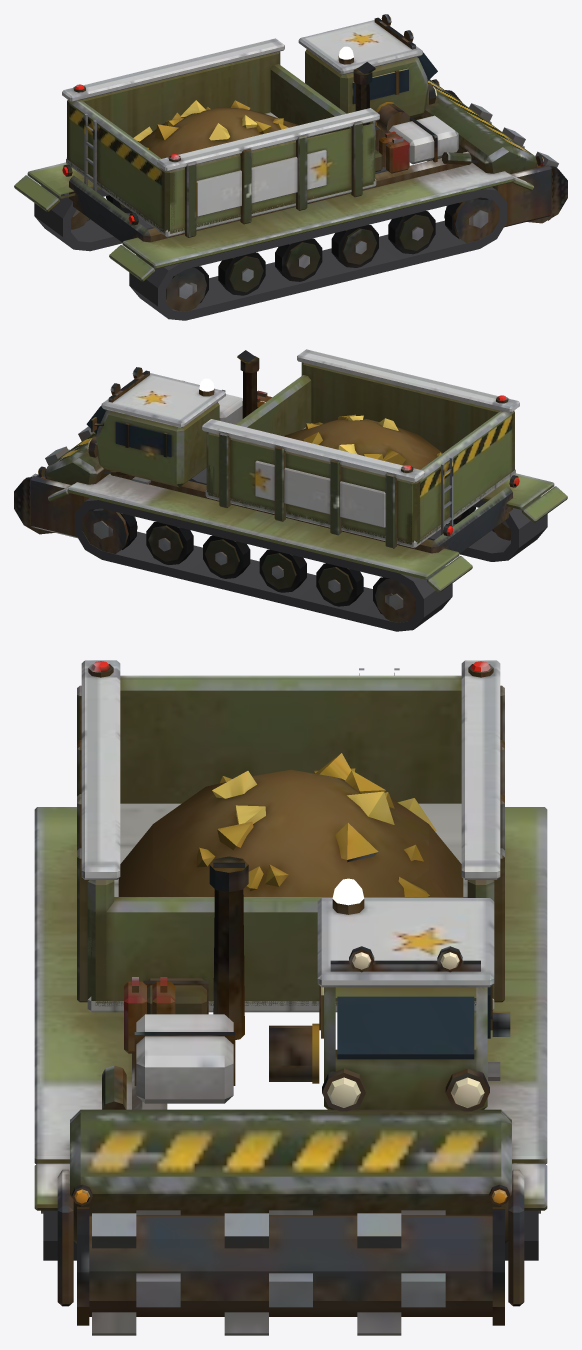
The model's file is harv.soviet.glb.
The picture shows the model from 3 angles, top to bottom: view 1: azimuth 30°, elevation 25°; view 2: azimuth 150°, elevation 25°; view 3: azimuth 270°, elevation 25°; orthographic projection. The views are drawn at different scales.
Visible parts, largest first — view 1: root_mesh, ore_mesh, drum_mesh; view 2: root_mesh, ore_mesh, drum_mesh; view 3: root_mesh, drum_mesh, ore_mesh.
Boxes of the visible parts, <box> form: root_mesh: <box>14,14,551,320</box>; ore_mesh: <box>133,100,309,158</box>; drum_mesh: <box>445,90,567,223</box>; root_mesh: <box>30,349,567,631</box>; ore_mesh: <box>284,414,442,469</box>; drum_mesh: <box>14,426,94,534</box>; root_mesh: <box>34,660,547,1306</box>; drum_mesh: <box>77,1206,504,1335</box>; ore_mesh: <box>118,753,463,896</box>.
Size of the model in its own units: 1.15 by 0.4147 by 0.58.
Materials: 3 (1 with a texture image).
